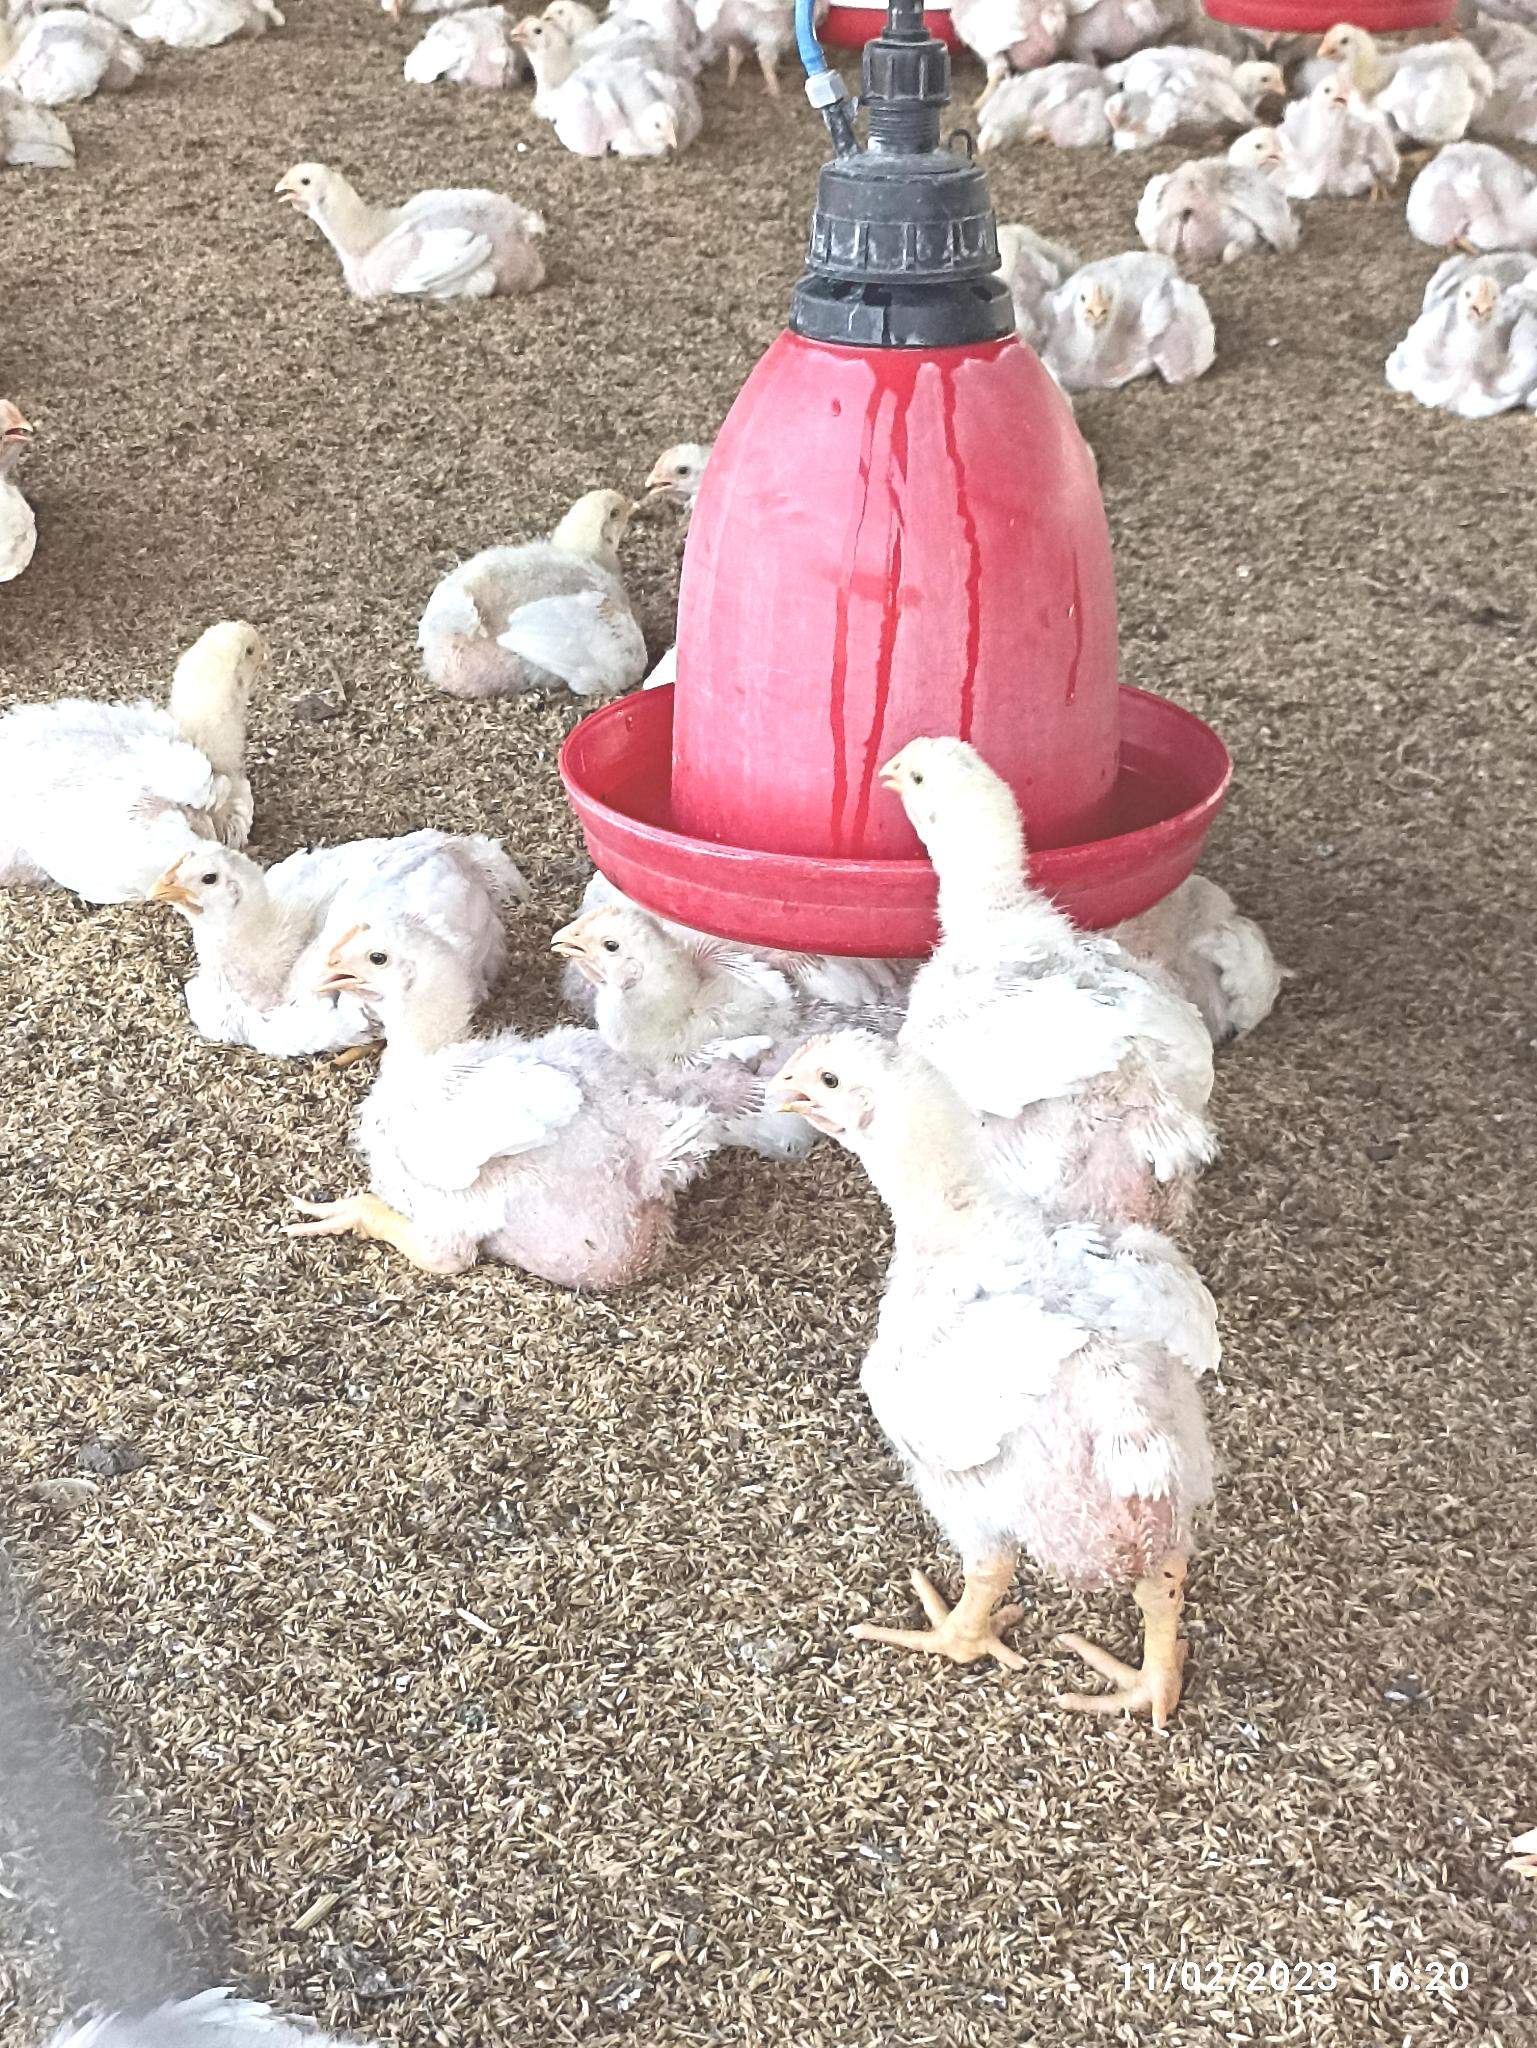Pollos: (775, 1036, 1203, 1567), (307, 925, 678, 1257), (886, 720, 1208, 1059), (3, 623, 270, 863), (434, 483, 651, 679), (270, 158, 554, 287), (170, 851, 350, 1022), (509, 15, 701, 144), (1054, 239, 1221, 386), (1405, 279, 1537, 407), (1167, 132, 1311, 236), (1288, 74, 1405, 187)
